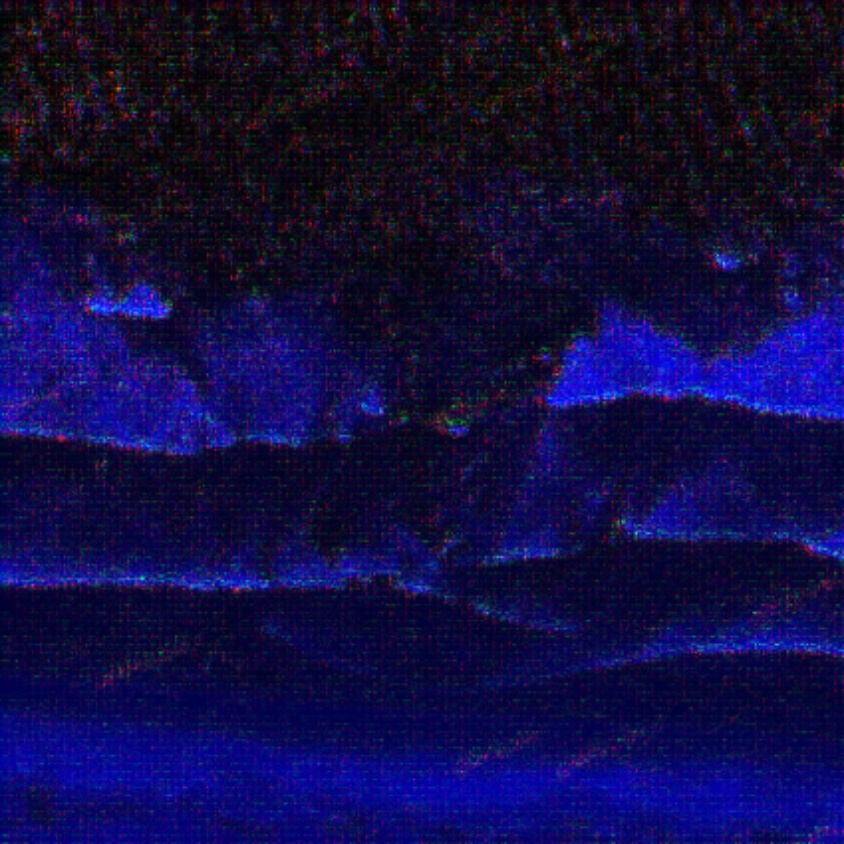rip_current: (284, 202, 585, 596)
